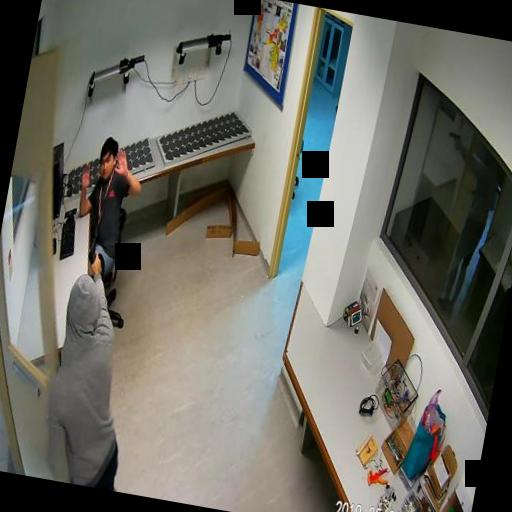Handgun: (84, 232, 104, 272)
